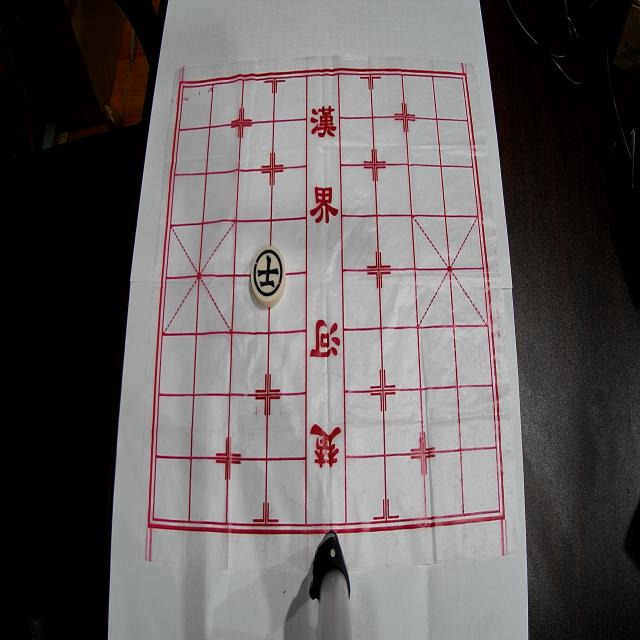black-guard: (250, 246, 286, 306)
